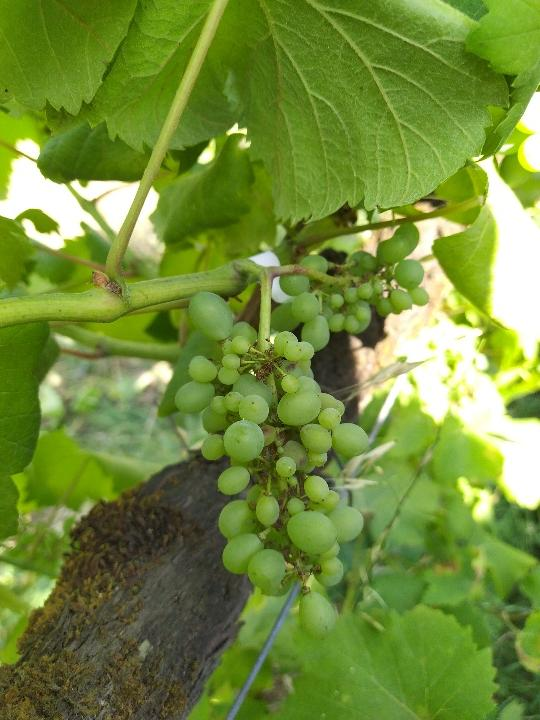grape: (166, 218, 432, 645)
